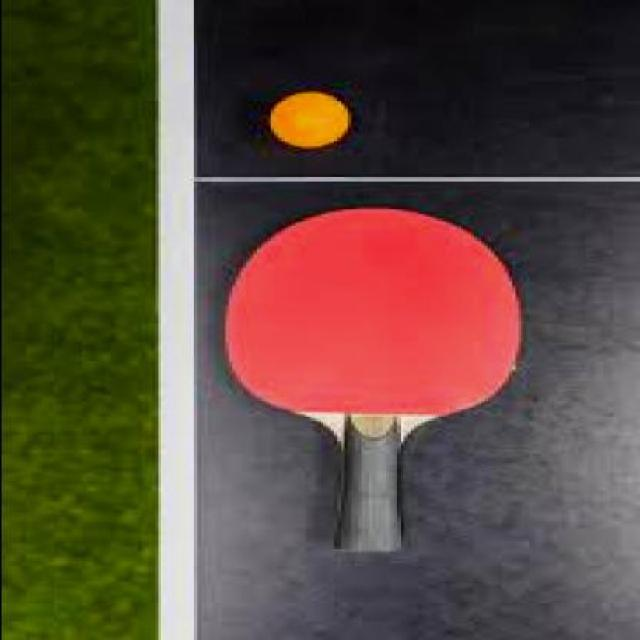table_tennis_racket: (223, 208, 525, 554)
